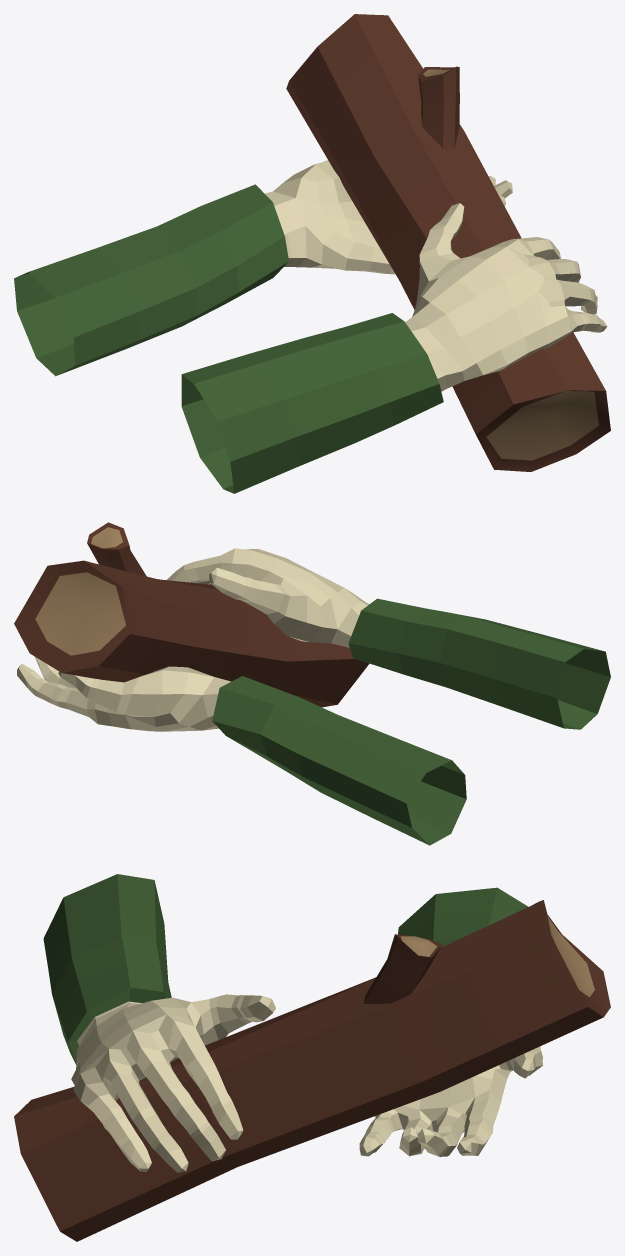
Rendered from EquipedWood.fbx.
The picture shows the model from 3 angles, top to bottom: view 1: azimuth 30°, elevation 25°; view 2: azimuth 150°, elevation 25°; view 3: azimuth 270°, elevation 25°; orthographic projection. The views are drawn at different scales.
Visible parts, largest first — view 1: pCylinder4; view 2: pCylinder4; view 3: pCylinder4.
Boxes of the visible parts, box(x1,y1,x2,y2) form: pCylinder4: box(14, 14, 610, 493); pCylinder4: box(14, 522, 610, 845); pCylinder4: box(14, 874, 610, 1241).
Size of the model in its own units: 1.76 by 1.12 by 1.76.
